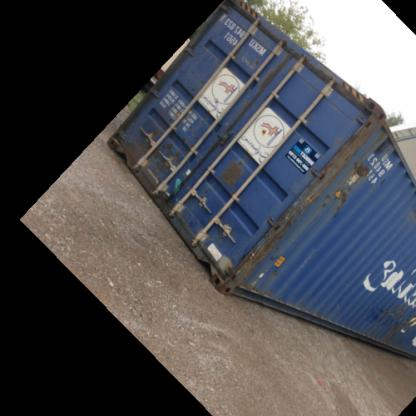Damage: (329, 122, 374, 202), (116, 129, 184, 175), (241, 223, 287, 287), (365, 296, 412, 336), (219, 153, 247, 185)
